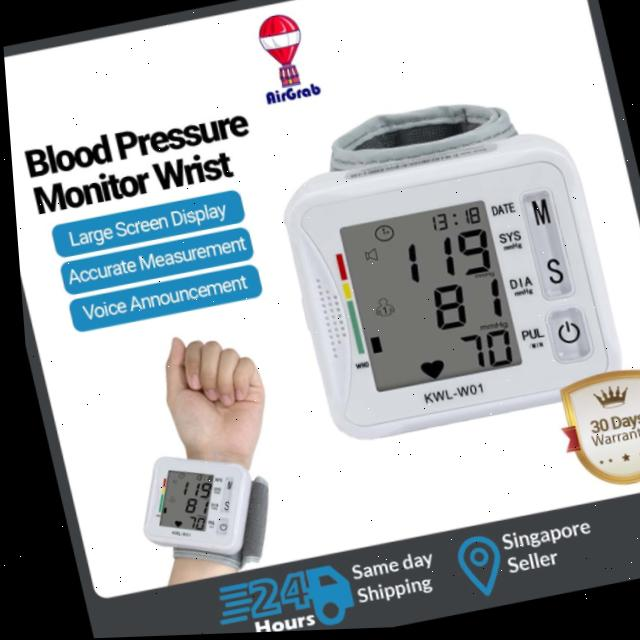dia: (419, 275, 509, 336)
pul: (447, 323, 515, 387)
ssd: (336, 201, 517, 397)
sys: (391, 224, 493, 293)
